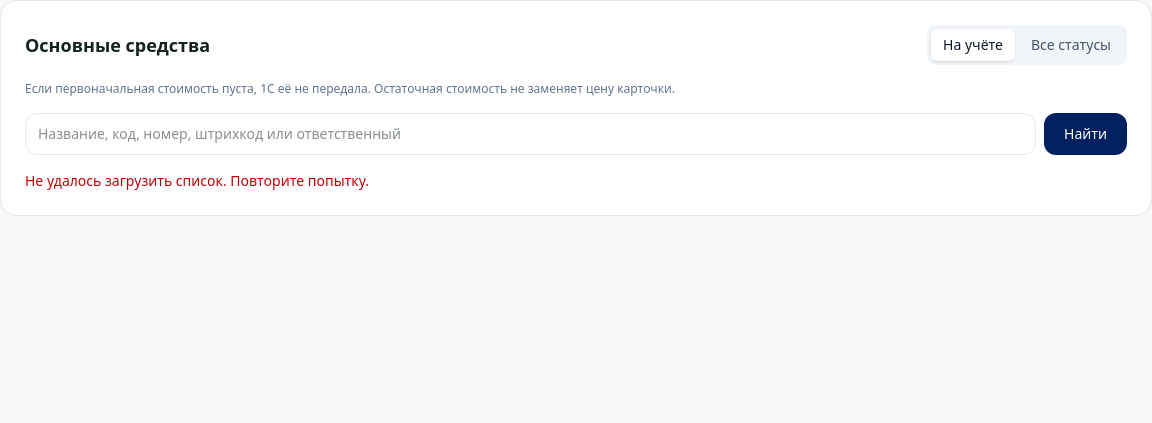
Scenario: current 1C registry panels › shows errors and permits retry instead of pretending an empty registry was loaded
Expected: the message reads "Не удалось загрузить список. Повторите попытку.", [25,171,369,190]
Expected: the text "Нет основных средств на учёте" is not shown
Click the button "Найти".
click(1086, 134)  # box [1044,113,1127,155]
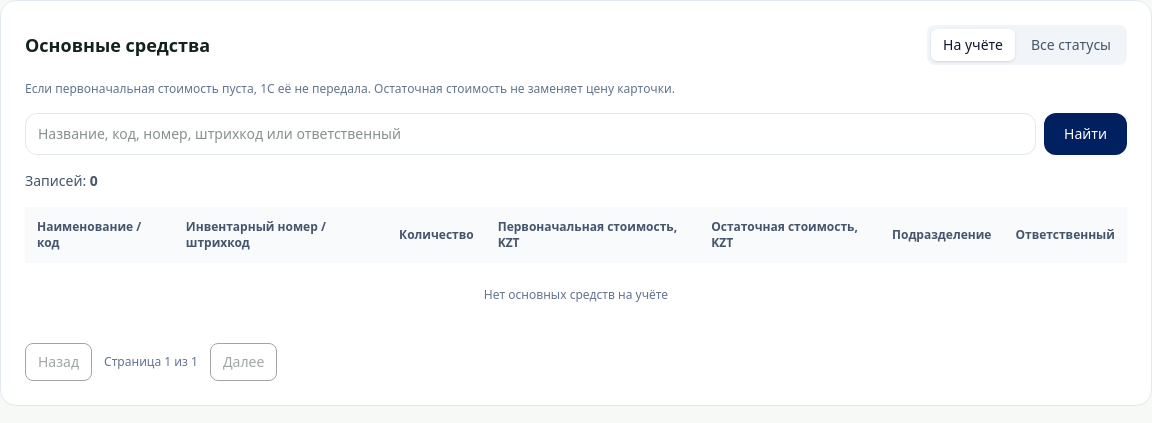
Now the text "Нет основных средств на учёте" is shown, box [25,263,1127,327]
